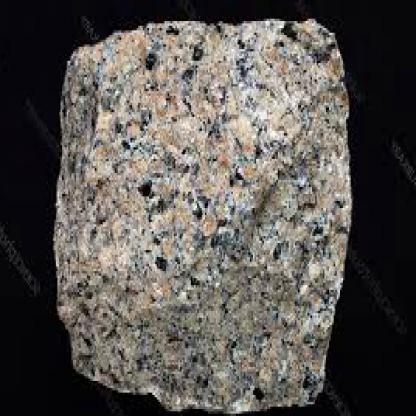Igneous_Diorite: (48, 9, 354, 414)
